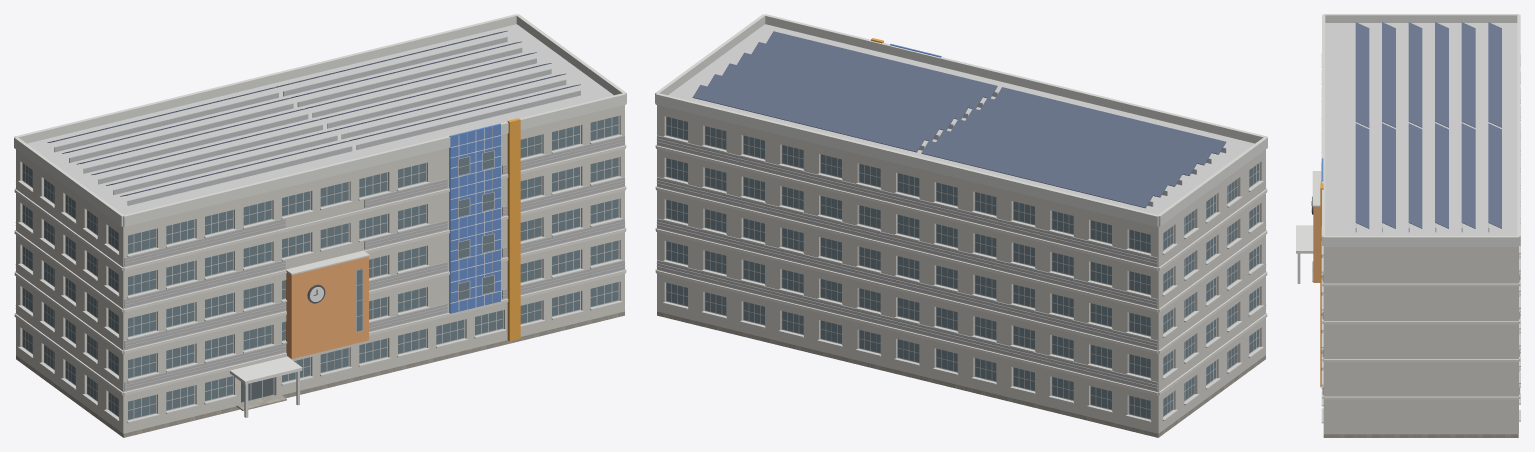
3 renders of one model, left to right at view 1: azimuth 30°, elevation 25°; view 2: azimuth 150°, elevation 25°; view 3: azimuth 270°, elevation 25°, orthographic. The views are drawn at different scales.
Visible parts, largest first — view 1: central__wall, central__glass, central__roof, central__solarframe, central__cap, central__louvre, central__frame, central__band, central__bluetile, central__sill, central__peach, central__solar (+4 smaller); view 2: central__wall, central__solar, central__glass, central__louvre, central__cap, central__frame, central__band, central__roof, central__sill, central__stone; view 3: central__wall, central__roof, central__solar, central__cap, central__band, central__sill, central__stone, central__peach, central__canopy, central__orange, central__louvre.
Part boxes in pixels (<box>): central__wall: <box>16,105,624,433</box>; central__glass: <box>23,116,618,419</box>; central__roof: <box>27,24,613,214</box>; central__solarframe: <box>54,37,580,205</box>; central__cap: <box>14,14,626,275</box>; central__louvre: <box>15,135,625,390</box>; central__frame: <box>22,115,619,420</box>; central__band: <box>14,144,626,395</box>; central__bluetile: <box>449,123,500,313</box>; central__sill: <box>18,135,622,423</box>; central__peach: <box>286,256,368,358</box>; central__solar: <box>47,30,580,196</box>; central__wall: <box>657,105,1265,433</box>; central__solar: <box>692,31,1226,208</box>; central__glass: <box>666,117,1258,418</box>; central__louvre: <box>656,135,1266,390</box>; central__cap: <box>655,14,1267,226</box>; central__frame: <box>666,116,1259,419</box>; central__band: <box>655,144,1267,395</box>; central__roof: <box>668,24,1254,214</box>; central__sill: <box>663,135,1263,422</box>; central__stone: <box>657,311,1265,437</box>; central__wall: <box>1323,247,1518,434</box>; central__roof: <box>1325,23,1517,235</box>; central__solar: <box>1355,22,1501,228</box>; central__cap: <box>1312,14,1520,246</box>; central__band: <box>1322,280,1520,399</box>; central__sill: <box>1321,53,1520,423</box>; central__stone: <box>1323,434,1518,437</box>; central__peach: <box>1313,206,1320,282</box>; central__canopy: <box>1296,225,1313,253</box>; central__orange: <box>1320,183,1323,387</box>; central__louvre: <box>1322,254,1520,394</box>.
Size of the model in its own units: 45.85 by 19.51 by 19.48.
21 materials, 1 textured.
